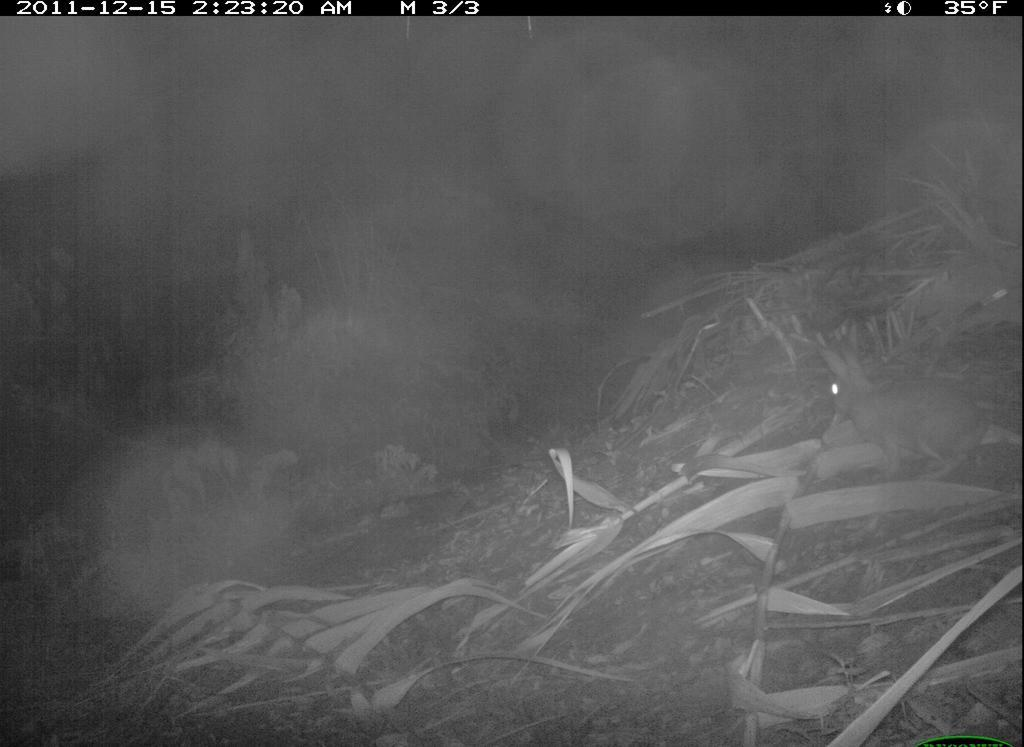rabbit: (809, 326, 995, 483)
